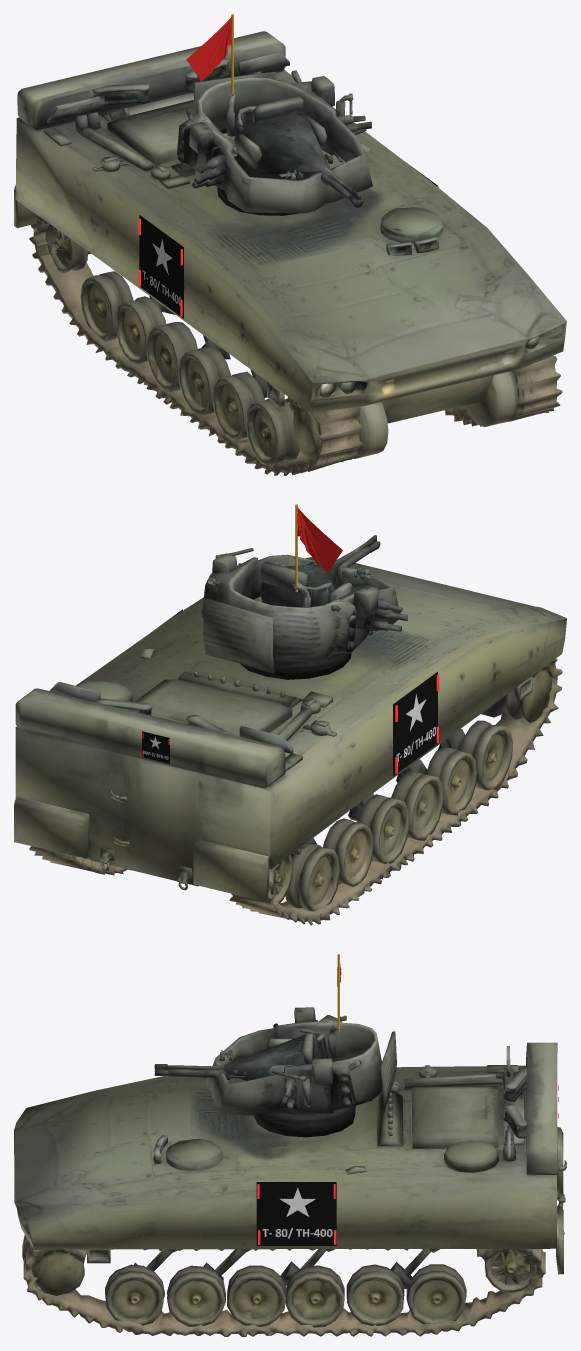
The model's file is OP4_veh_with_2_x_Lives.glb.
The picture shows the model from 3 angles, top to bottom: view 1: azimuth 30°, elevation 25°; view 2: azimuth 150°, elevation 25°; view 3: azimuth 270°, elevation 25°; orthographic projection. The views are drawn at different scales.
Parts seen in each view (by area): view 1: tripo_node_b858fb1a.002, tripo_node_b858fb1a.004, Plane.005, Cylinder.002; view 2: tripo_node_b858fb1a.002, tripo_node_b858fb1a.004, Plane.005, Cylinder.002, Plane.007; view 3: tripo_node_b858fb1a.002, tripo_node_b858fb1a.004, Plane.006.
Boxes of the visible parts, x1,y1,x2,y2 form: tripo_node_b858fb1a.002: [14, 31, 566, 475]; tripo_node_b858fb1a.004: [176, 70, 372, 215]; Plane.005: [138, 215, 183, 318]; Cylinder.002: [186, 14, 233, 94]; tripo_node_b858fb1a.002: [14, 557, 566, 925]; tripo_node_b858fb1a.004: [201, 535, 407, 679]; Plane.005: [393, 672, 437, 776]; Cylinder.002: [295, 504, 342, 592]; Plane.007: [142, 731, 169, 763]; tripo_node_b858fb1a.002: [14, 1042, 566, 1336]; tripo_node_b858fb1a.004: [154, 1007, 396, 1137]; Plane.006: [256, 1182, 336, 1245].
Size of the model in its own units: 1.36 by 1.76 by 2.8.
7 materials, 4 textured.
